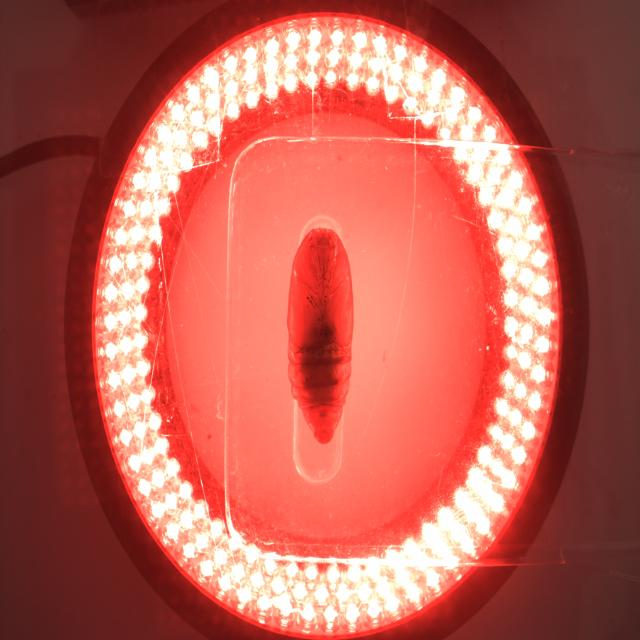male: (318, 410, 329, 418)
